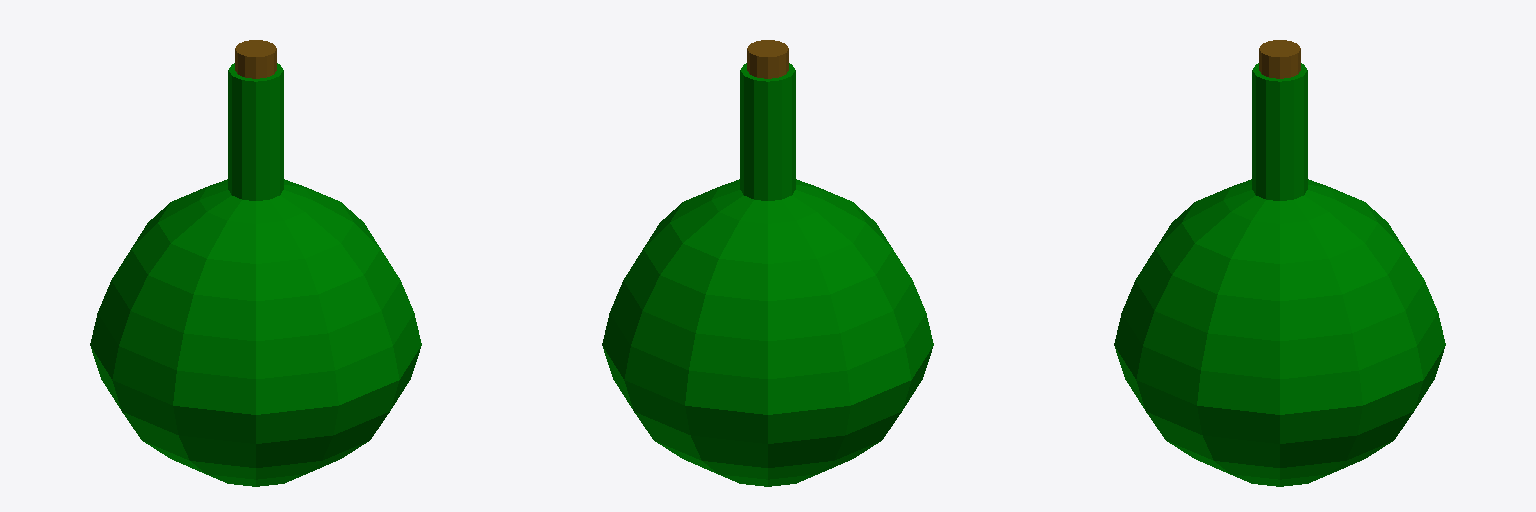
The model's file is BigPotion_Stamina.obj.
The picture shows the model from 3 angles: view 1: azimuth 30°, elevation 25°; view 2: azimuth 150°, elevation 25°; view 3: azimuth 270°, elevation 25°; orthographic projection.
Parts seen in each view (by area): view 1: BigPotion_Stamina_Circle.013; view 2: BigPotion_Stamina_Circle.013; view 3: BigPotion_Stamina_Circle.013.
Part boxes in pixels (x1,y1,x2,y2): BigPotion_Stamina_Circle.013: (90, 40, 421, 486); BigPotion_Stamina_Circle.013: (602, 40, 933, 486); BigPotion_Stamina_Circle.013: (1114, 40, 1445, 486).
Size of the model in its own units: 8.34 by 11.5 by 8.34.